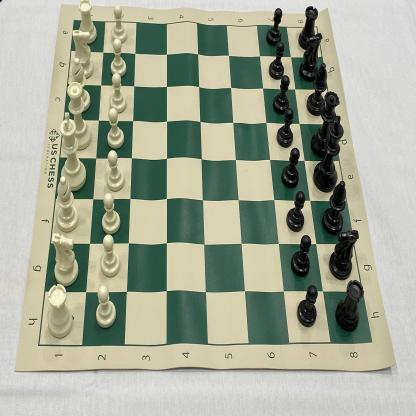black-bishop: (322, 180, 347, 234), (306, 63, 328, 116)
black-king: (312, 114, 344, 193)
black-knight: (329, 229, 359, 281), (299, 32, 322, 82)
black-pawn: (297, 285, 318, 327), (291, 235, 312, 276), (286, 192, 307, 232), (271, 75, 290, 114), (276, 108, 294, 148), (282, 149, 300, 188), (267, 5, 283, 46), (269, 42, 286, 80)
black-queen: (311, 90, 341, 157)
black-rook: (335, 279, 364, 331), (298, 7, 319, 49)
white-bishop: (54, 175, 79, 232), (70, 58, 90, 112)
white-king: (58, 112, 86, 192)
white-knight: (51, 232, 79, 286), (71, 28, 95, 79)
white-pawn: (95, 282, 117, 329), (99, 233, 121, 277), (103, 149, 125, 191), (99, 192, 121, 233), (104, 108, 125, 148), (108, 39, 127, 77), (108, 73, 126, 113), (108, 6, 127, 43)
white-queen: (66, 81, 92, 150)
white-rook: (44, 283, 73, 340), (77, 0, 97, 44)
